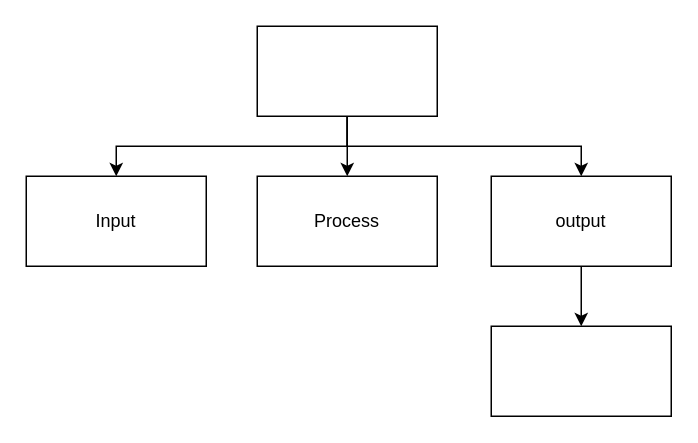
Image size: 698x443. Some labels were removed from this diagram. The centre of each missing label's shape, as x and y in pixels:
Circumference: the point at 346,70
Display all valid RGB values: the point at 580,370
